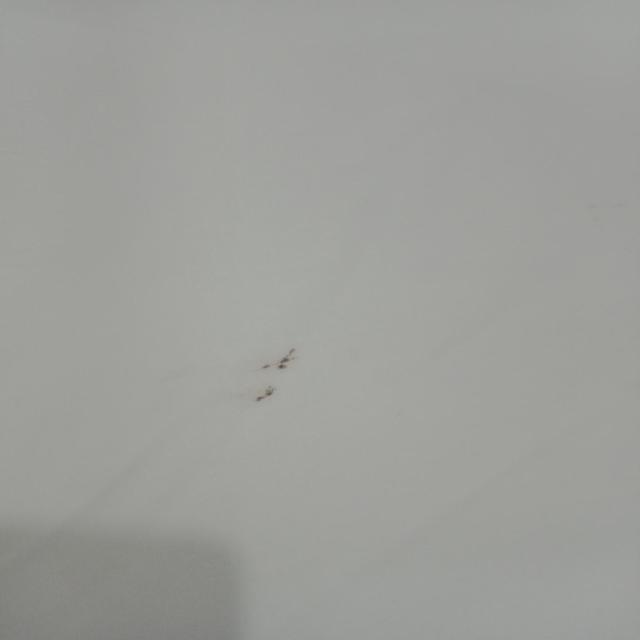stain: (247, 339, 304, 409)
